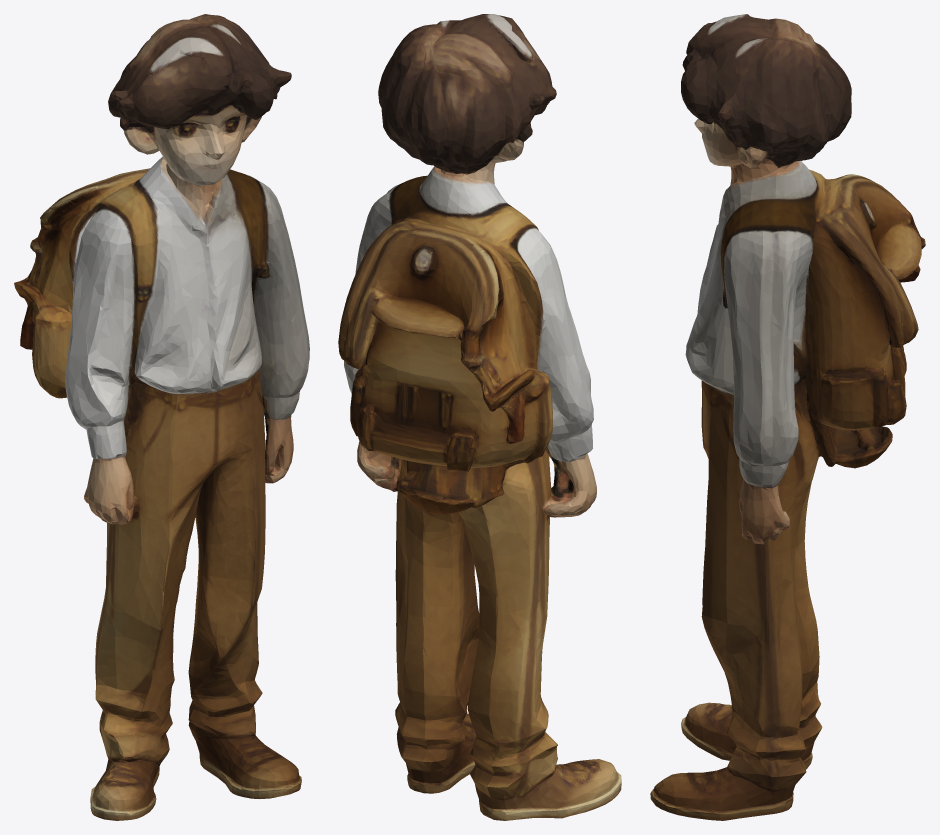
File: hiker-out_model_file.glb
3 renders of one model, left to right at view 1: azimuth 30°, elevation 25°; view 2: azimuth 150°, elevation 25°; view 3: azimuth 270°, elevation 25°, orthographic. The views are drawn at different scales.
Visible parts, largest first — view 1: world; view 2: world; view 3: world.
Part boxes in pixels (x1,y1,x2,y2): world: [14, 14, 309, 820]; world: [338, 14, 621, 820]; world: [650, 14, 925, 820].
Size of the model in its own units: 0.3297 by 0.9981 by 0.3239.
1 material, 1 textured.
